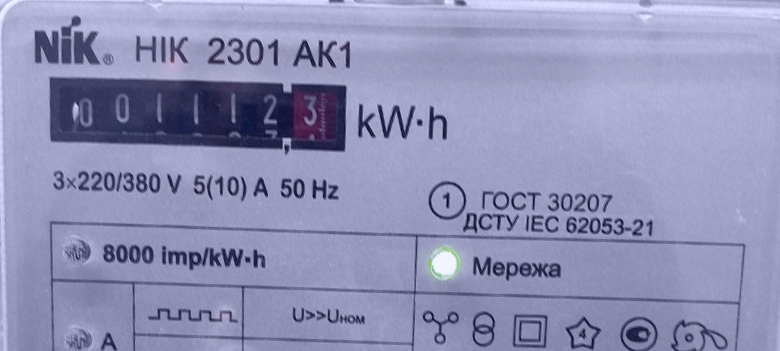0: (108, 88, 132, 127), (72, 93, 96, 129)
1: (147, 87, 167, 126), (223, 89, 240, 127), (185, 89, 201, 127)
2: (256, 91, 280, 128)
3: (297, 92, 317, 128)
screen: (37, 64, 354, 163)
